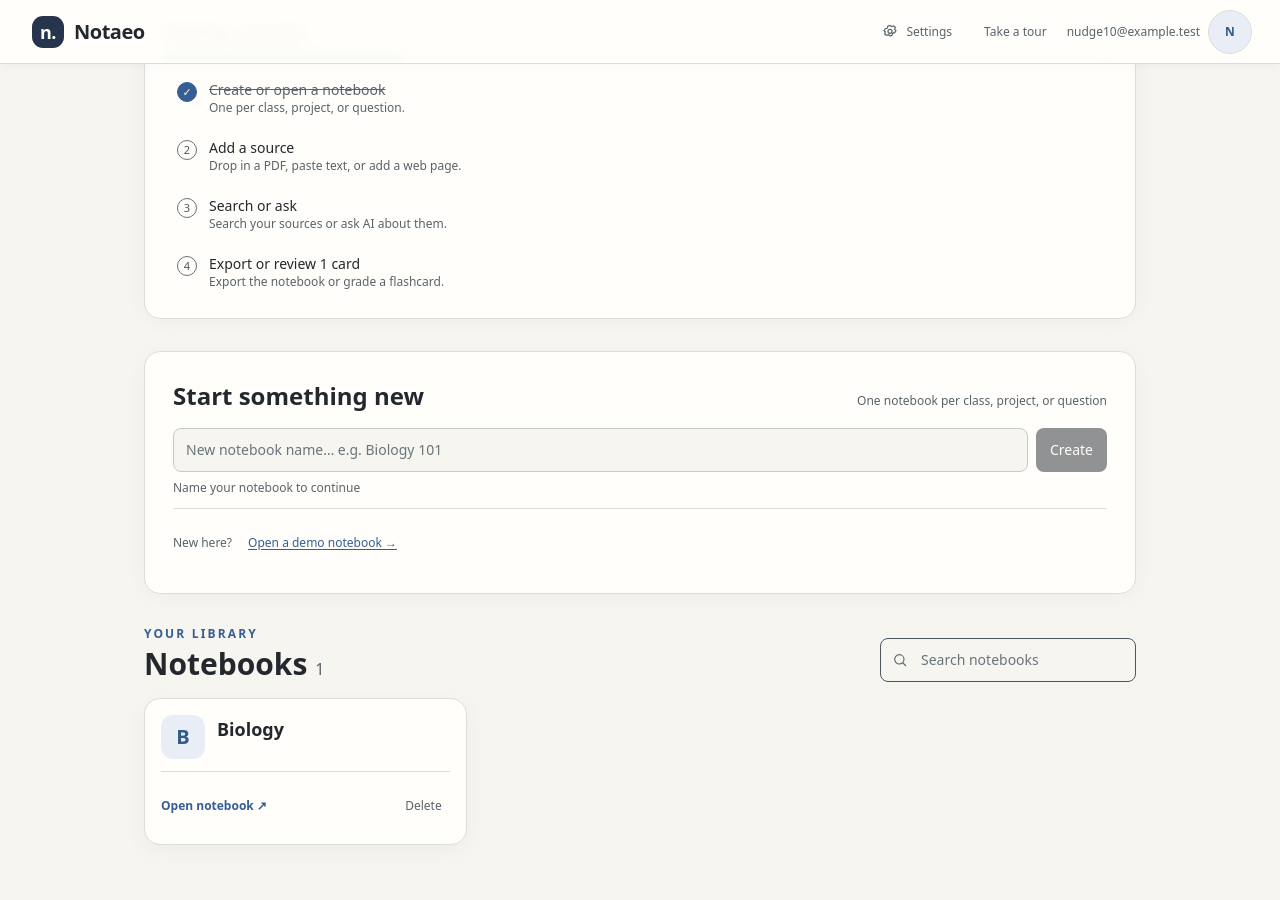
Test: post-export state shows the chime nudge
(page scrolled)
Click the button with aria-label "Open Biology" at (183, 737), box [161,715,450,759]
(page scrolled)
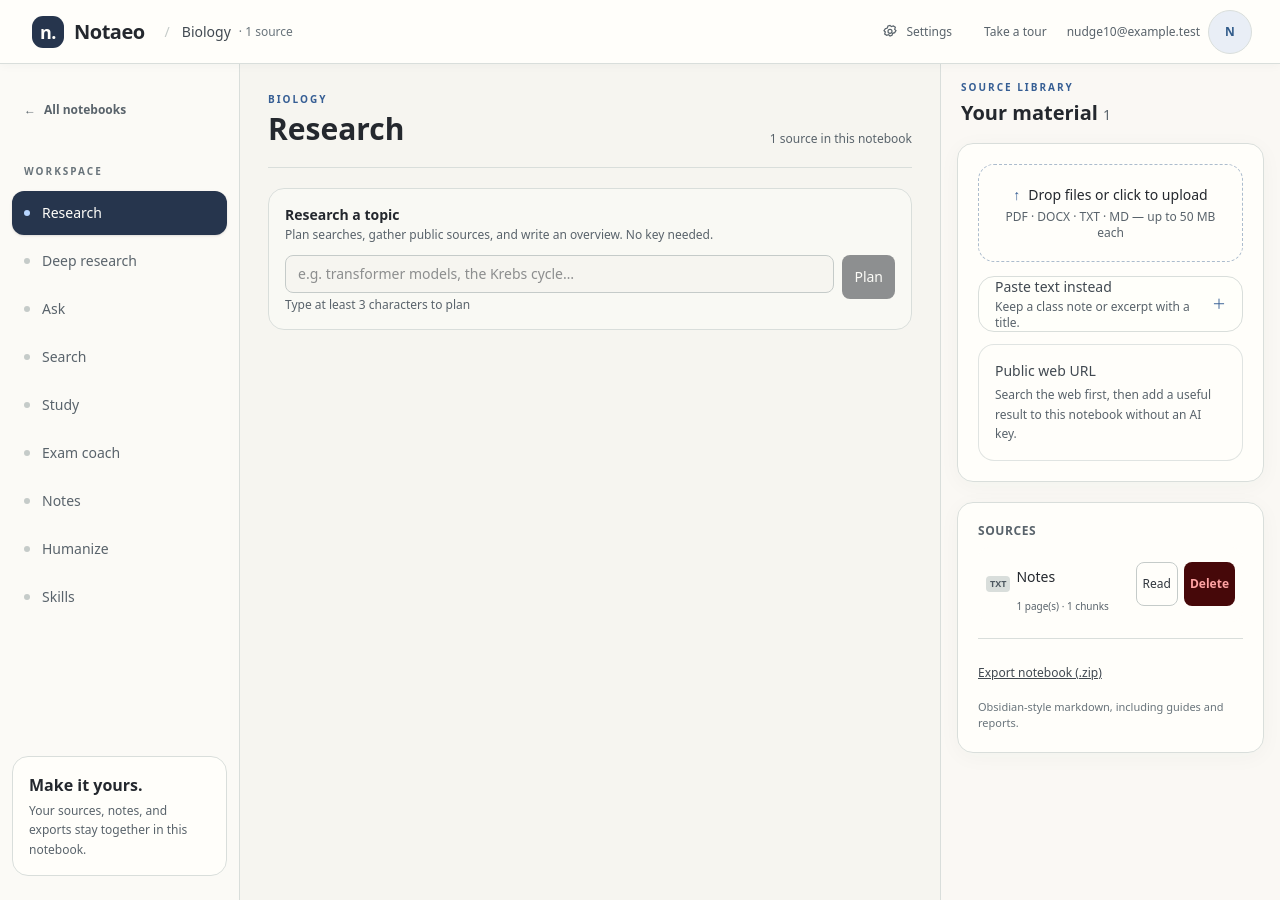
Click the button "Export notebook (.zip)" at (1040, 672), box [978,650,1102,694]
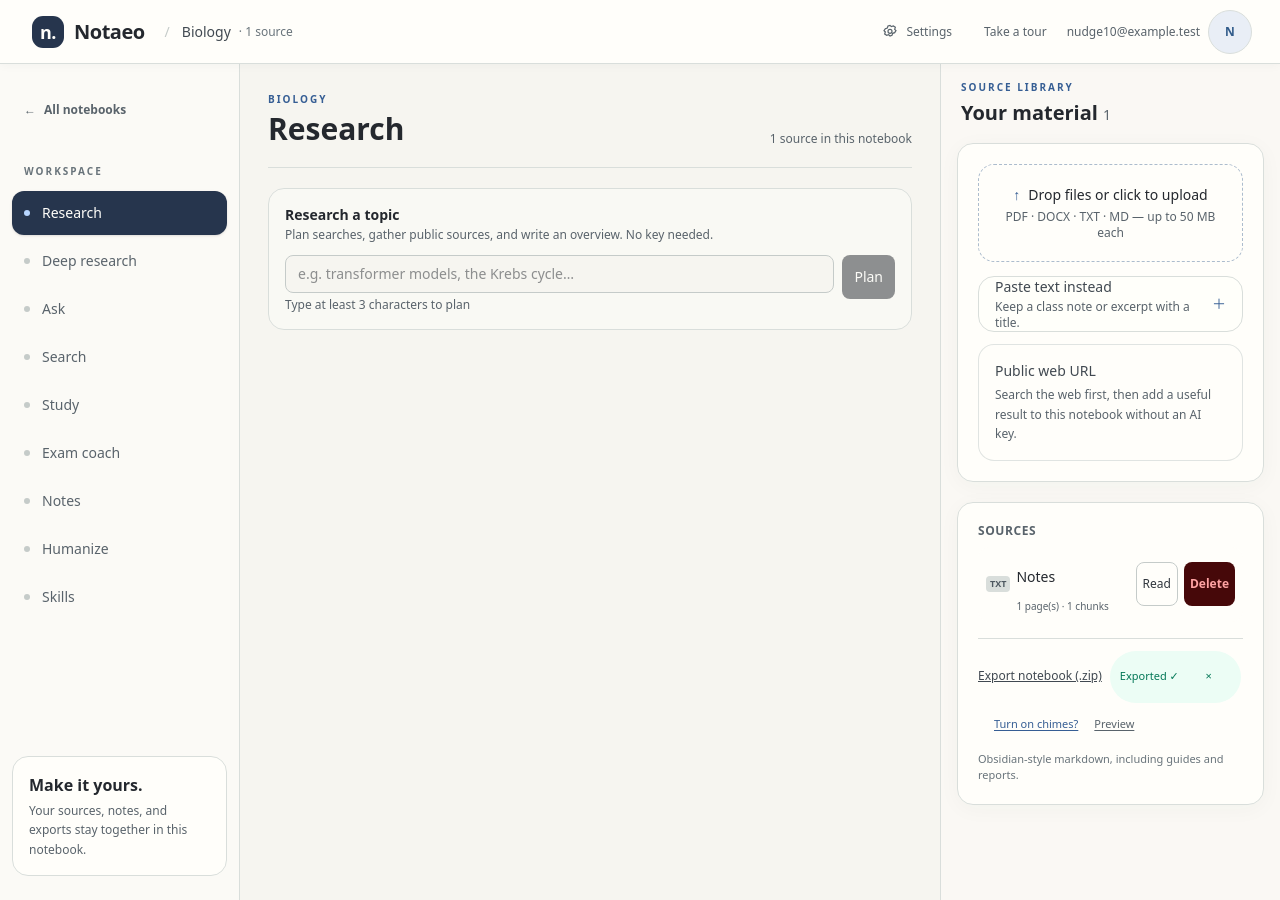
Check: the button "Turn on chimes?" is shown, box [986,702,1086,746]
Check: the button with aria-label "preview chime" is shown, box [1086,702,1142,746]
